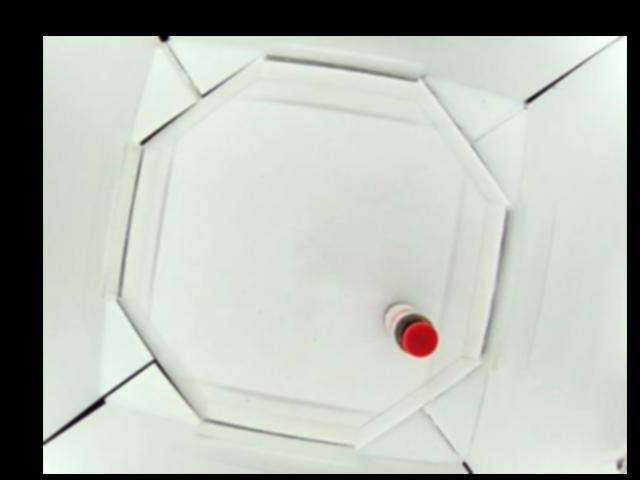Medicine: (383, 305, 437, 357)
